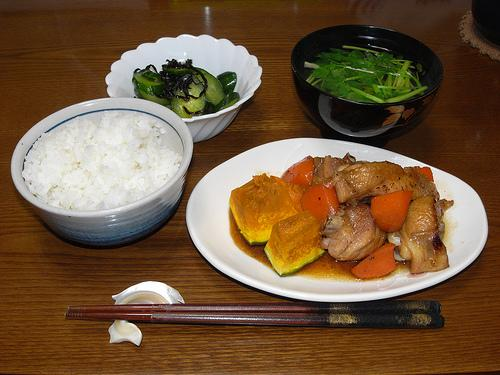rice: (23, 111, 182, 210)
